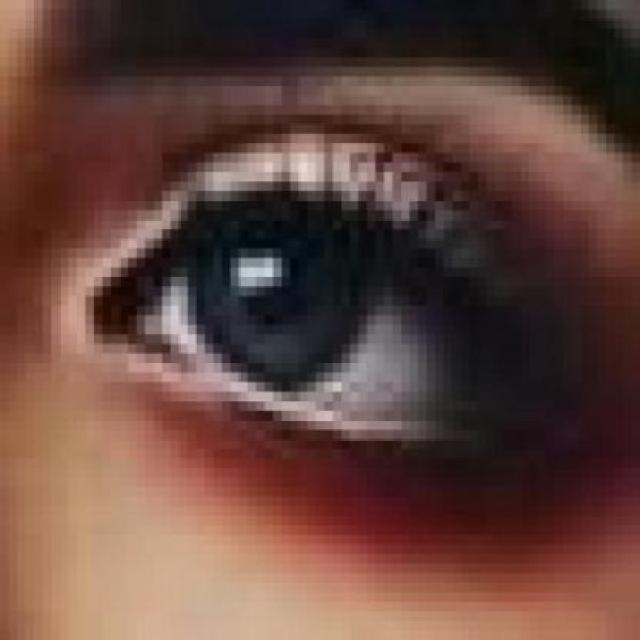awake: (76, 124, 555, 478)
